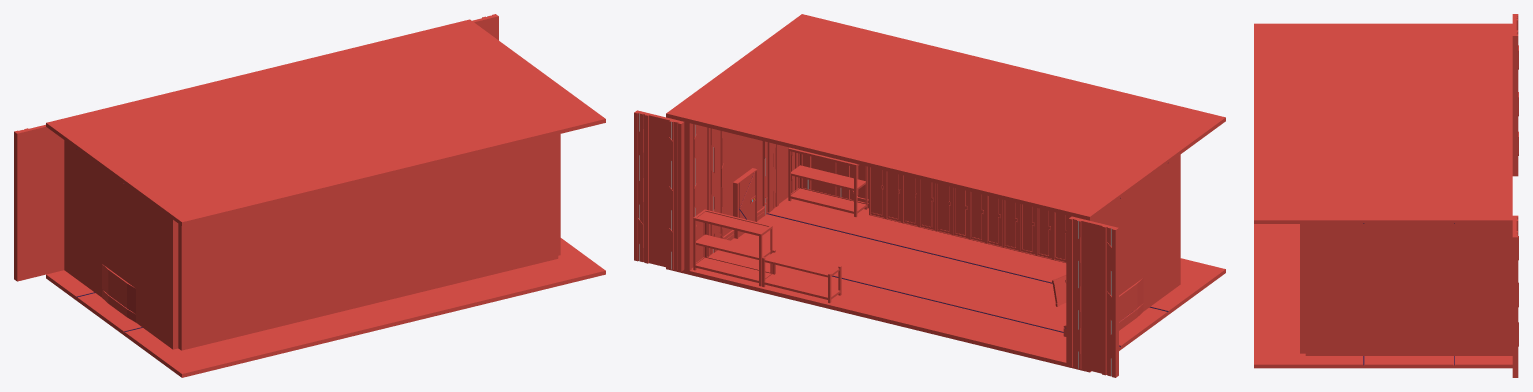
Rendered from Kirova_Maintenance_Room.fbx.
The picture shows the model from 3 angles, left to right: view 1: azimuth 30°, elevation 25°; view 2: azimuth 150°, elevation 25°; view 3: azimuth 270°, elevation 25°; orthographic projection. The views are drawn at different scales.
Visible parts, largest first — view 1: PBS_Floor_Ceiling, PBS_Wall, Main_Terminal; view 2: PBS_Floor_Ceiling, PBS_Wall, Servers, Storage_Shelves.003, Storage_Shelves, Storage_Half_Shelves, Door.010, Main_Terminal; view 3: PBS_Floor_Ceiling, PBS_Wall.
Part boxes in pixels (x1=…): PBS_Floor_Ceiling: x1=46, y1=19, x2=605, y2=377; PBS_Wall: x1=14, y1=14, x2=560, y2=350; Main_Terminal: x1=102, y1=264, x2=135, y2=322; PBS_Floor_Ceiling: x1=666, y1=14, x2=1225, y2=372; PBS_Wall: x1=634, y1=110, x2=1180, y2=377; Servers: x1=869, y1=167, x2=1066, y2=262; Storage_Shelves.003: x1=693, y1=209, x2=772, y2=286; Storage_Shelves: x1=788, y1=147, x2=867, y2=216; Storage_Half_Shelves: x1=762, y1=249, x2=841, y2=303; Door.010: x1=733, y1=168, x2=757, y2=238; Main_Terminal: x1=1063, y1=278, x2=1143, y2=336; PBS_Floor_Ceiling: x1=1254, y1=23, x2=1512, y2=368; PBS_Wall: x1=1300, y1=14, x2=1518, y2=377.
Size of the model in its own units: 2046 by 632 by 1025.
